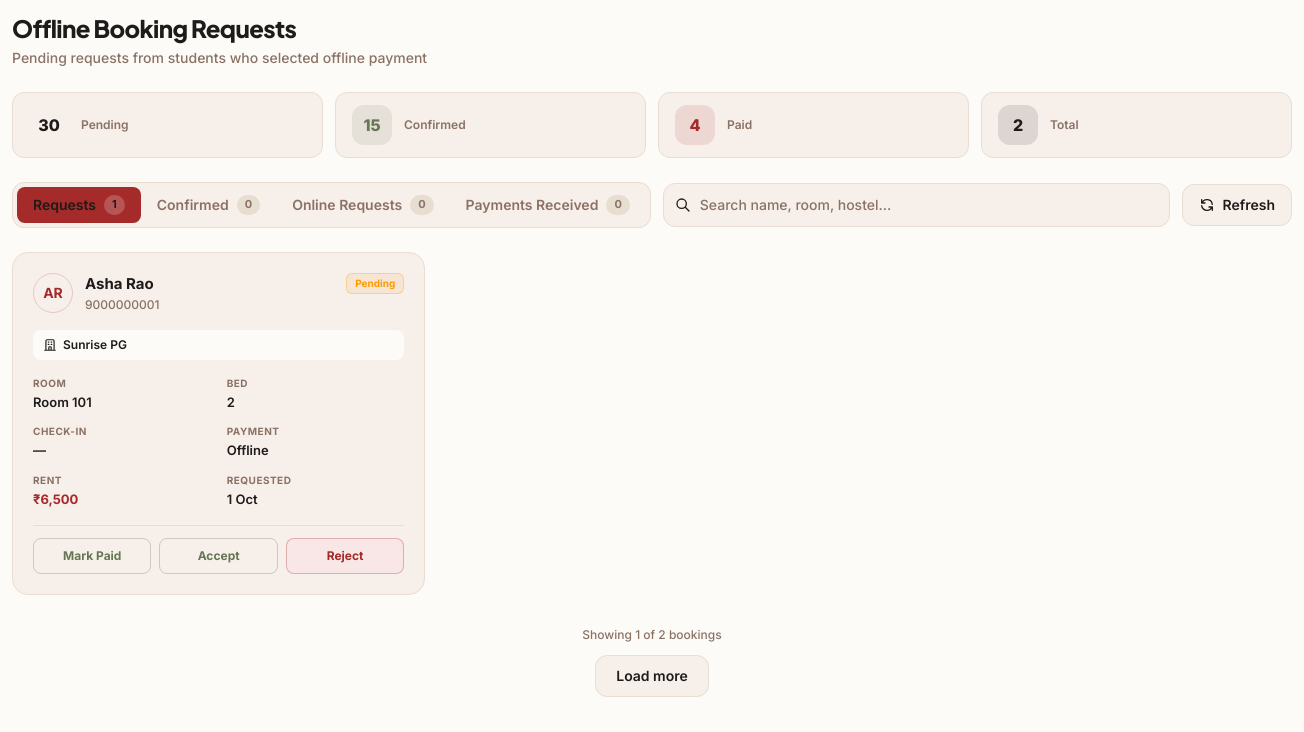
Test case: the Bookings page reads the paged reply (X15: it used to show an empty list always) › "Load more" fetches the next page and appends it
The width and height of the screenshot is (1304, 732).
Click the button "Load more". click: [652, 676]
box: x1=595 y1=655 x2=709 y2=697
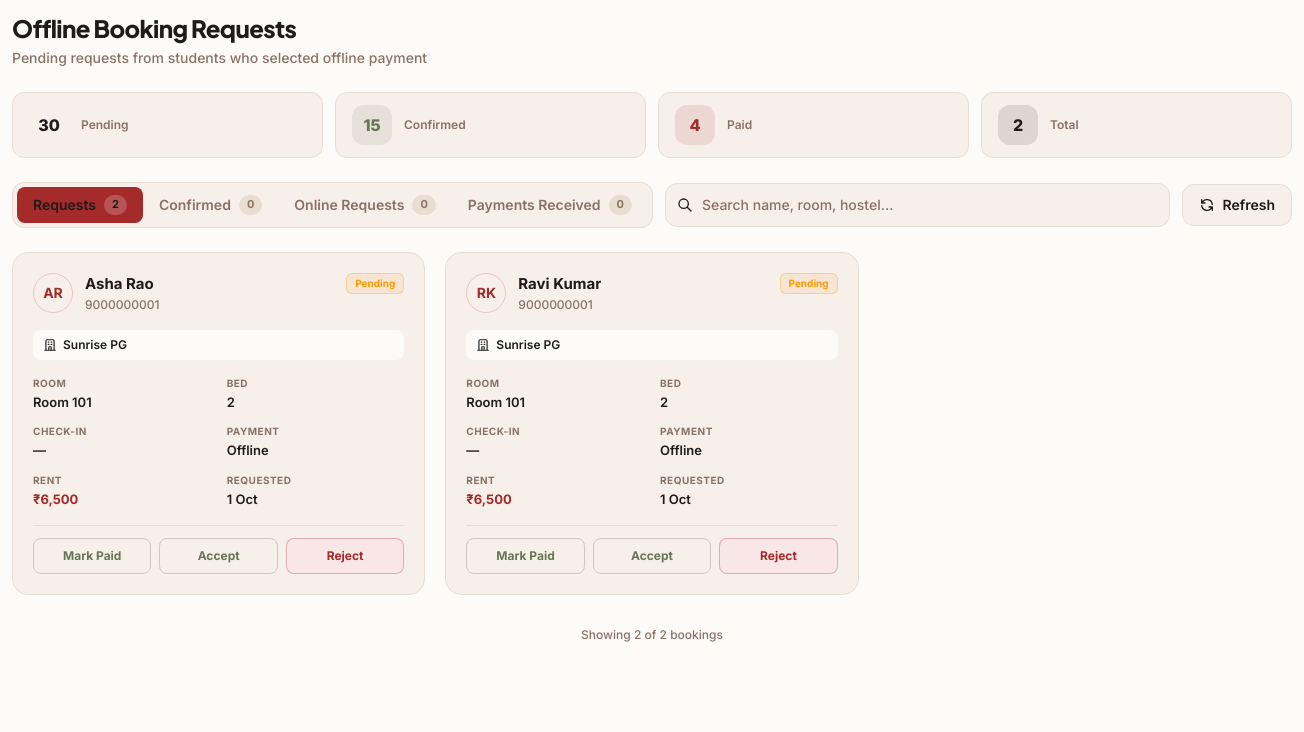
Check: the text "Asha Rao" is shown, box x1=85 y1=273 x2=160 y2=296
Check: the text "Ravi Kumar" is shown, box x1=518 y1=273 x2=601 y2=296
Check: the button "Load more" is gone
